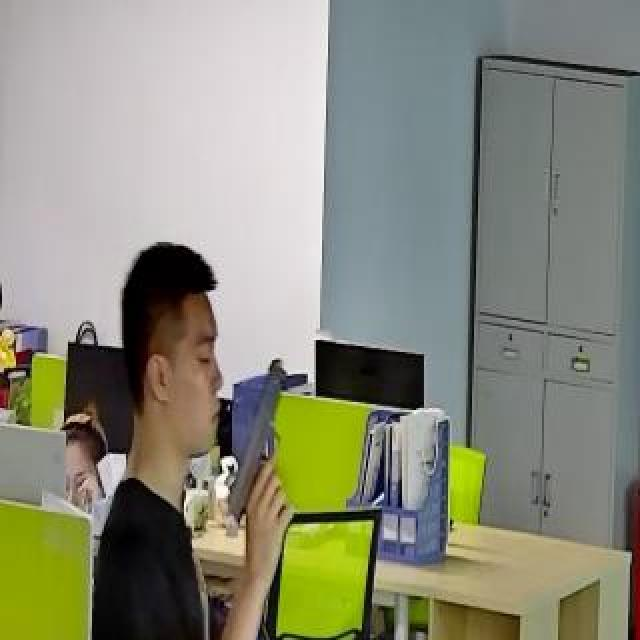Guns: (217, 338, 302, 544)
